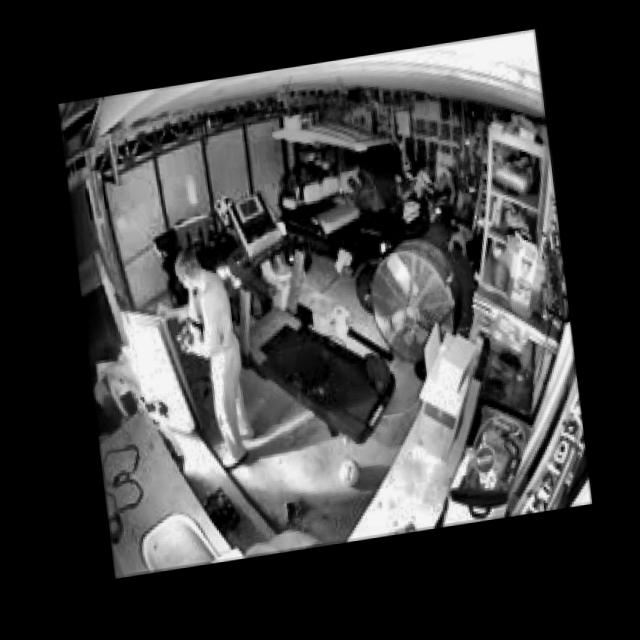burglary: (78, 240, 263, 495)
